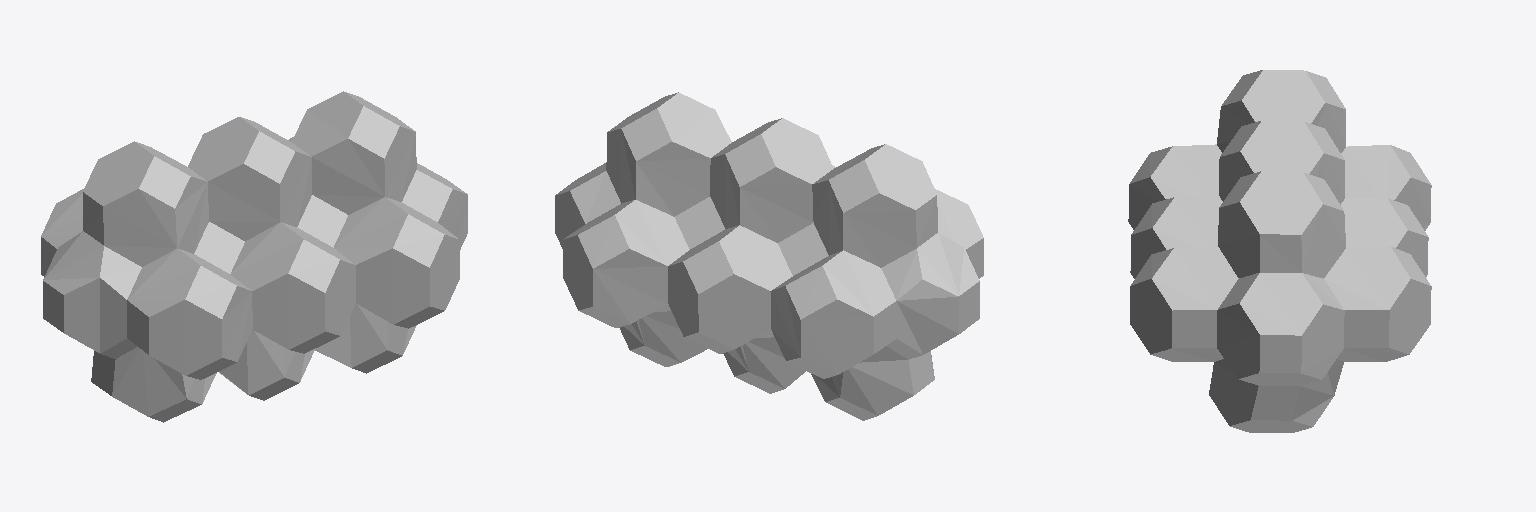
Rendered from fcc16.obj.
3 renders of one model, left to right at view 1: azimuth 30°, elevation 25°; view 2: azimuth 150°, elevation 25°; view 3: azimuth 270°, elevation 25°, orthographic.
Parts seen in each view (by area): view 1: Obj2.005_Mesh2.005, Obj4.002_Mesh4.002, Obj2.002_Mesh2.002, Obj2.001_Mesh2.001, Obj4.001_Mesh4.001, Obj4_Mesh4, Obj1.001_Mesh1.001, Obj1.002_Mesh1.002, Obj3.003_Mesh3.003, Obj3.002_Mesh3.002, Obj3.001_Mesh3.001, Obj2.004_Mesh2.004 (+2 smaller); view 2: Obj2.004_Mesh2.004, Obj4.002_Mesh4.002, Obj2.003_Mesh2.003, Obj2_Mesh2, Obj4.001_Mesh4.001, Obj4_Mesh4, Obj1.001_Mesh1.001, Obj1.002_Mesh1.002, Obj3.001_Mesh3.001, Obj3.003_Mesh3.003, Obj3.002_Mesh3.002, Obj2.005_Mesh2.005 (+2 smaller); view 3: Obj3.001_Mesh3.001, Obj4.001_Mesh4.001, Obj2.002_Mesh2.002, Obj2.003_Mesh2.003, Obj4.002_Mesh4.002, Obj4_Mesh4, Obj3.003_Mesh3.003, Obj2.005_Mesh2.005, Obj2.004_Mesh2.004, Obj2.001_Mesh2.001, Obj2_Mesh2.
Boxes of the visible parts, x1,y1,x2,y2 form: Obj2.005_Mesh2.005: [127, 248, 252, 379]; Obj4.002_Mesh4.002: [83, 141, 208, 266]; Obj2.002_Mesh2.002: [334, 197, 459, 328]; Obj2.001_Mesh2.001: [230, 222, 355, 353]; Obj4.001_Mesh4.001: [292, 91, 416, 214]; Obj4_Mesh4: [188, 117, 311, 241]; Obj1.001_Mesh1.001: [43, 231, 141, 358]; Obj1.002_Mesh1.002: [91, 347, 216, 422]; Obj3.003_Mesh3.003: [315, 304, 416, 373]; Obj3.002_Mesh3.002: [219, 330, 314, 400]; Obj3.001_Mesh3.001: [402, 163, 467, 249]; Obj2.004_Mesh2.004: [41, 189, 83, 276]; Obj2.004_Mesh2.004: [770, 250, 896, 378]; Obj4.002_Mesh4.002: [812, 144, 937, 267]; Obj2.003_Mesh2.003: [563, 200, 689, 327]; Obj2_Mesh2: [668, 225, 792, 353]; Obj4.001_Mesh4.001: [606, 92, 731, 216]; Obj4_Mesh4: [710, 118, 833, 242]; Obj1.001_Mesh1.001: [881, 233, 979, 359]; Obj1.002_Mesh1.002: [811, 346, 934, 420]; Obj3.001_Mesh3.001: [555, 162, 620, 248]; Obj3.003_Mesh3.003: [620, 304, 707, 366]; Obj3.002_Mesh3.002: [723, 329, 805, 393]; Obj2.005_Mesh2.005: [935, 189, 983, 278]; Obj3.001_Mesh3.001: [1217, 273, 1344, 385]; Obj4.001_Mesh4.001: [1218, 171, 1345, 278]; Obj2.002_Mesh2.002: [1130, 246, 1238, 361]; Obj2.003_Mesh2.003: [1324, 246, 1431, 361]; Obj4.002_Mesh4.002: [1217, 70, 1345, 152]; Obj4_Mesh4: [1219, 120, 1344, 204]; Obj3.003_Mesh3.003: [1209, 359, 1343, 432]; Obj2.005_Mesh2.005: [1128, 144, 1221, 229]; Obj2.004_Mesh2.004: [1341, 145, 1431, 230]; Obj2.001_Mesh2.001: [1130, 195, 1222, 278]; Obj2_Mesh2: [1341, 198, 1428, 276].
Size of the model in its own units: 4.78 by 3 by 3.1.